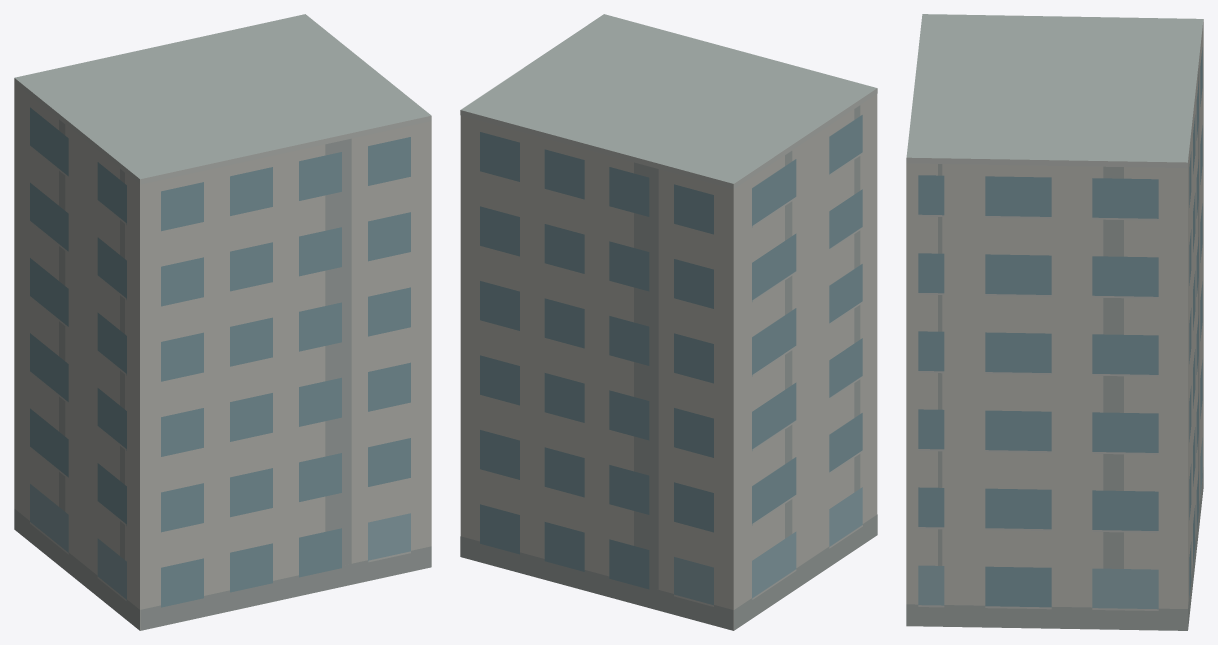
Rendered from survey-upis-32876541.glb.
3 views of the same model, side by side, from view 1: azimuth 30°, elevation 25°; view 2: azimuth 150°, elevation 25°; view 3: azimuth 270°, elevation 25° (orthographic). The views are drawn at different scales.
Visible parts, largest first — view 1: survey-upis-32876541.tmp; view 2: survey-upis-32876541.tmp; view 3: survey-upis-32876541.tmp.
Part boxes in pixels (left/top/right/bottom): survey-upis-32876541.tmp: left=14, top=14, right=431, bottom=630; survey-upis-32876541.tmp: left=460, top=14, right=877, bottom=630; survey-upis-32876541.tmp: left=906, top=14, right=1203, bottom=630.
Bounding box in the file's own units: 13.57 × 19.95 × 11.48.
